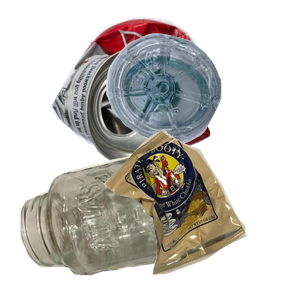glass: (18, 143, 227, 300)
metal: (48, 15, 251, 175)
plastic: (104, 31, 300, 168)
trash: (101, 127, 300, 300)
